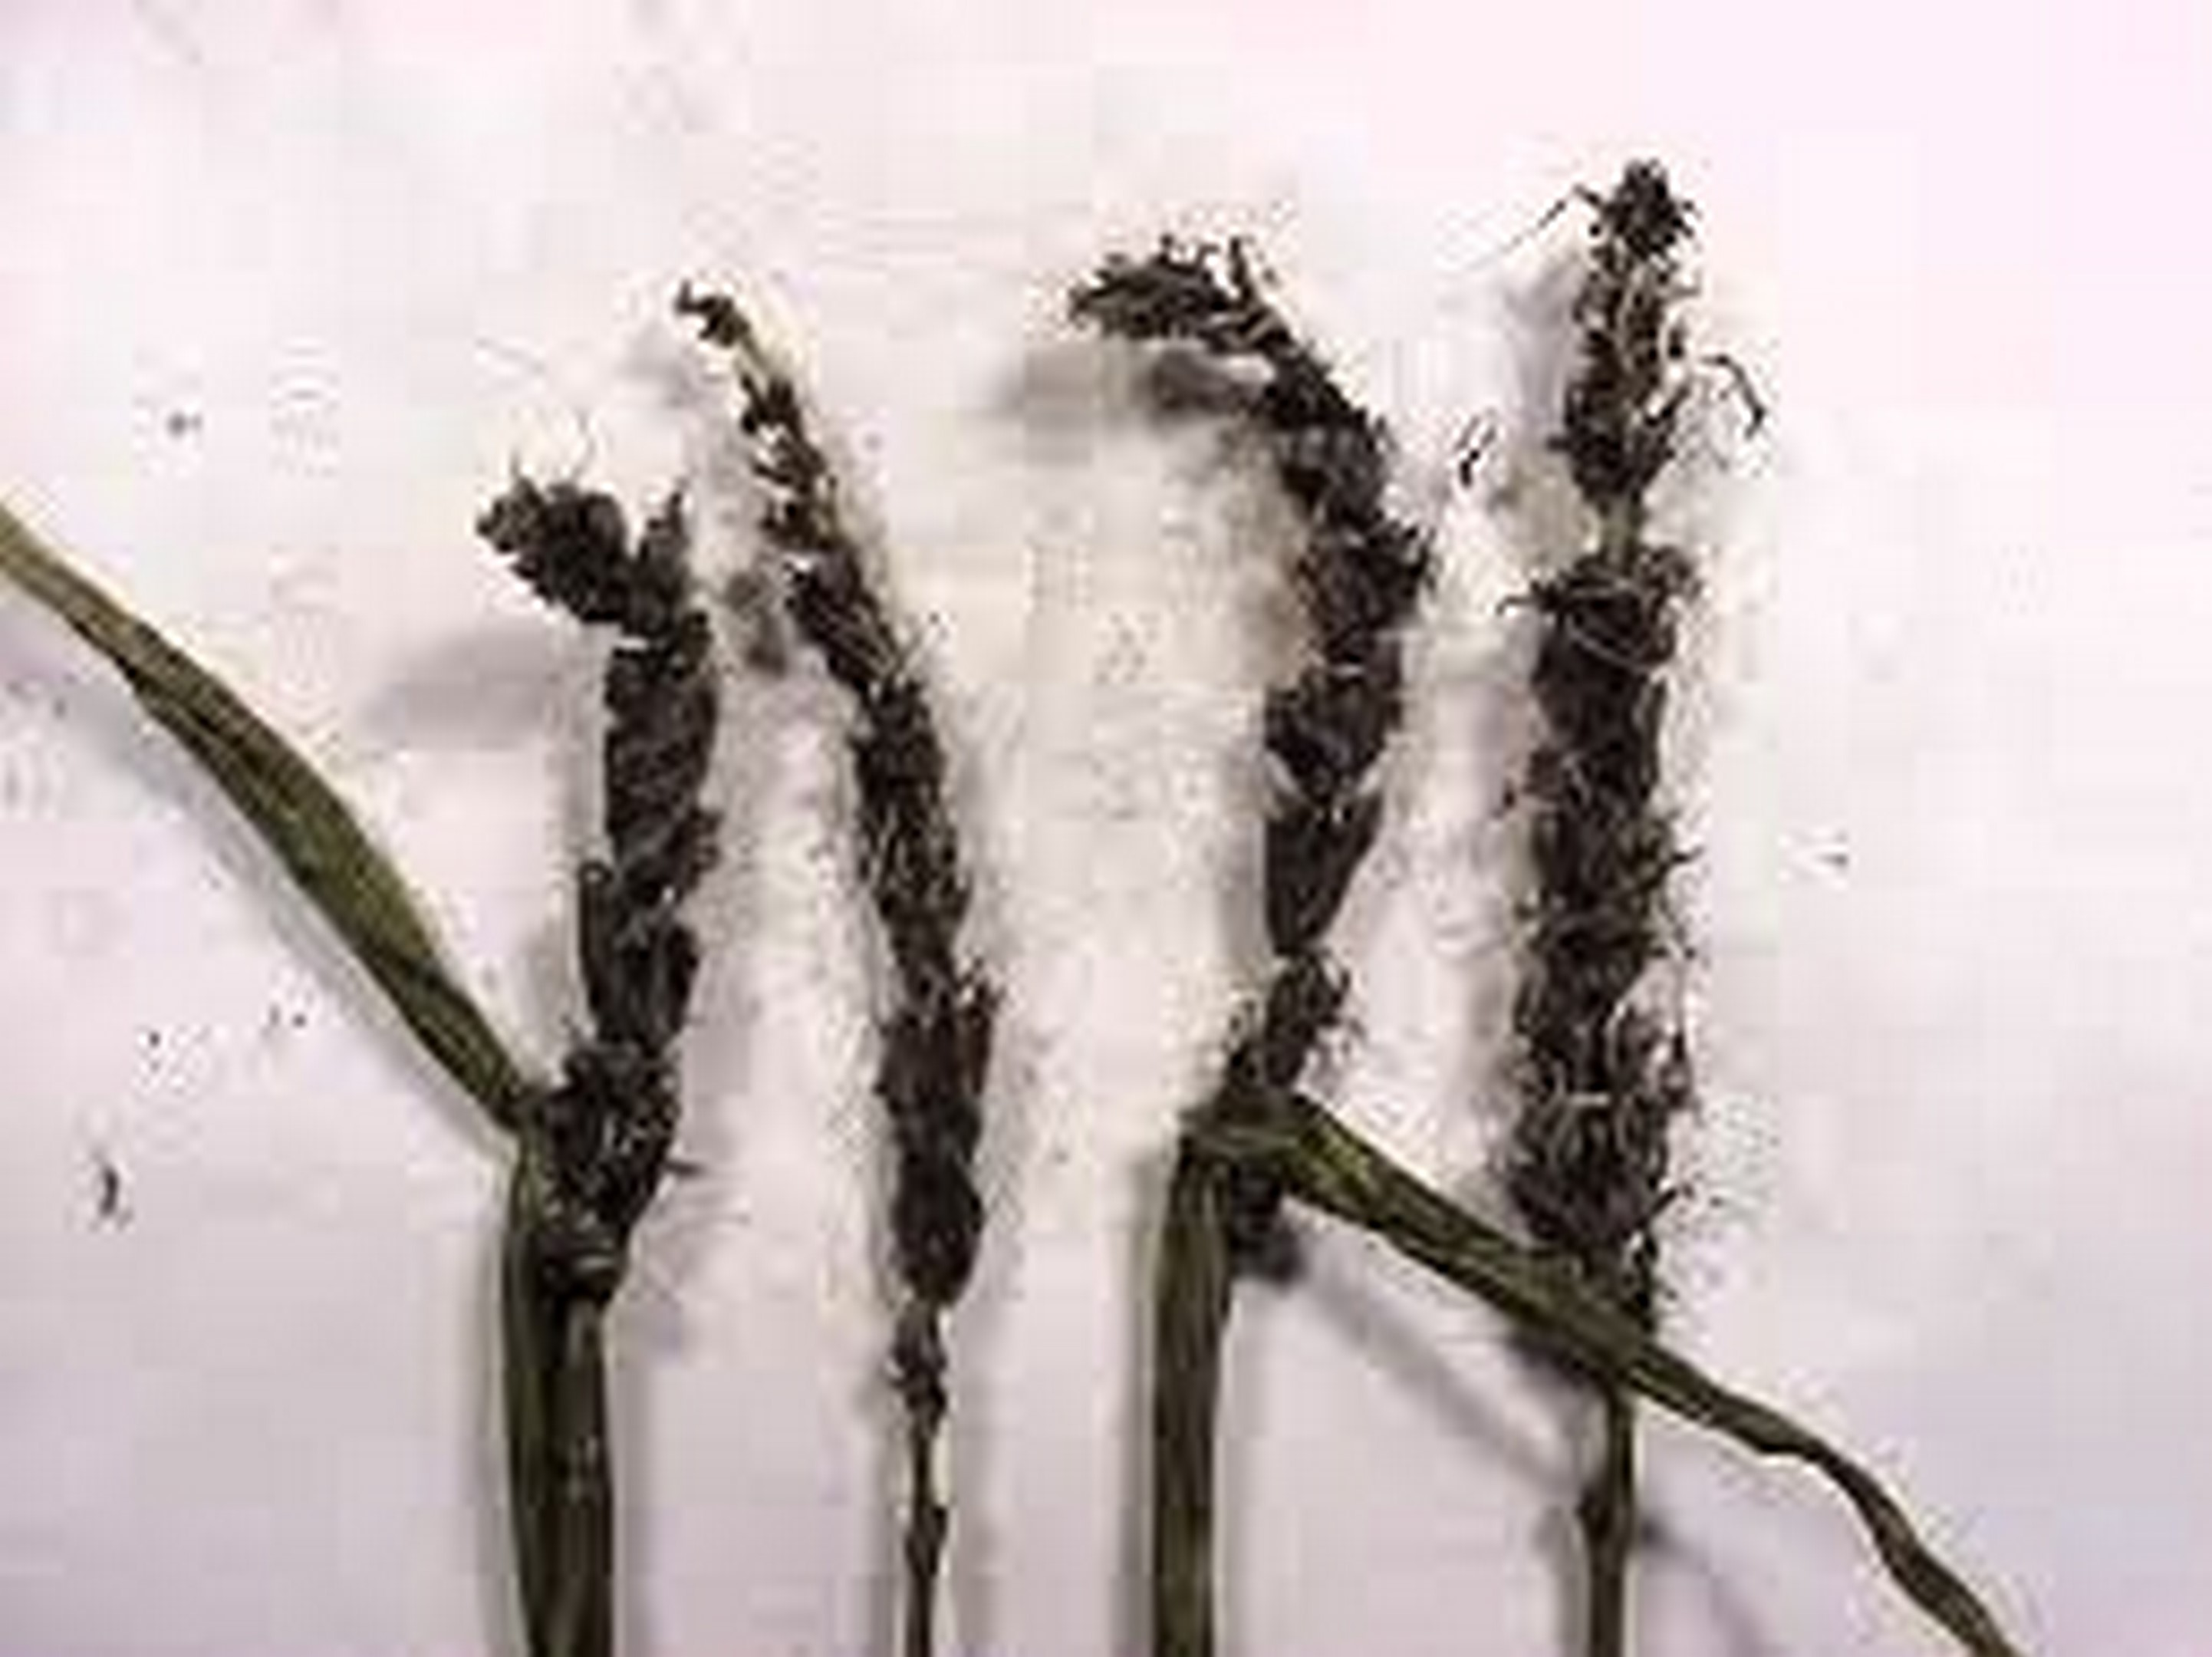Wheat Loose Smut: (343, 155, 1808, 1290)
